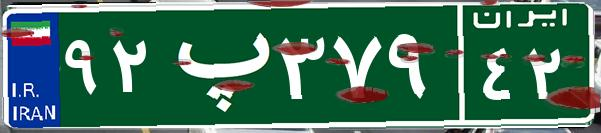2: (110, 28, 158, 105), (525, 38, 570, 115)
3: (273, 28, 330, 110)
4: (475, 38, 525, 113)
7: (330, 28, 385, 110)
9: (385, 28, 445, 110), (57, 26, 110, 107)
پ: (158, 15, 273, 115)
